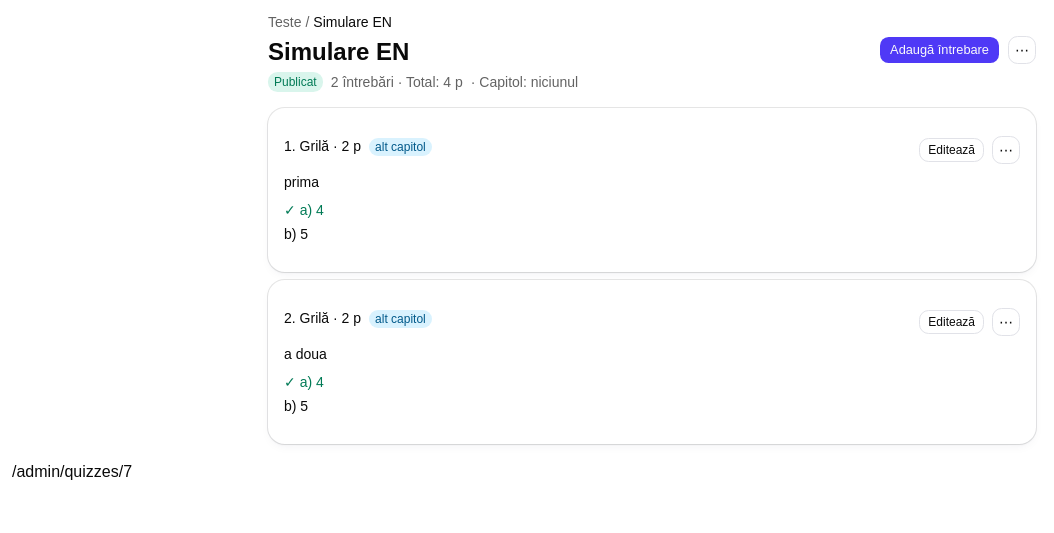
AdminQuizzesPage › ordinea întrebărilor › shows why a move was refused
Click the 3rd button "⋯".
click(1006, 322)  # box [992,308,1020,336]
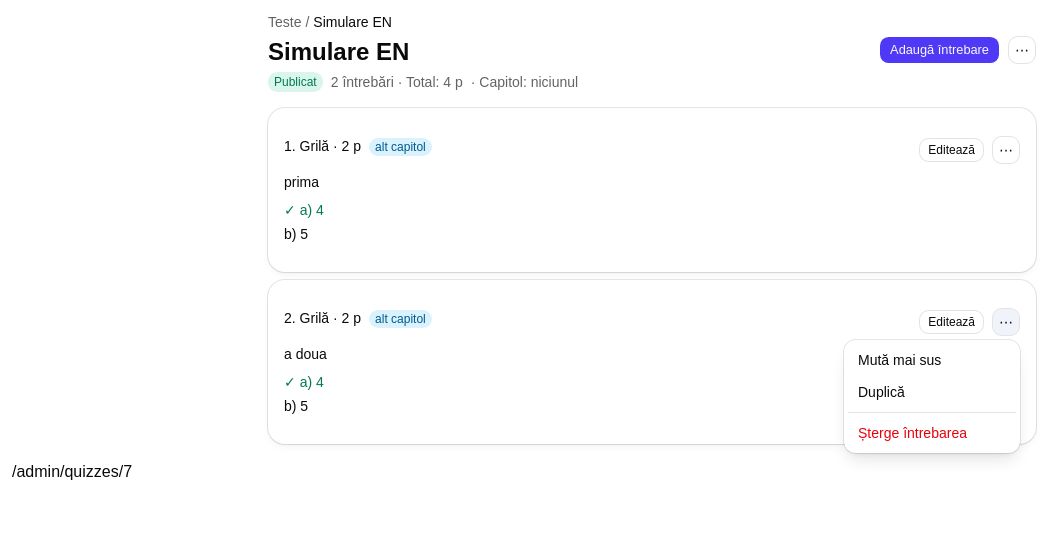
Click the menu item "Mută mai sus".
click(900, 360)  # box [858,352,941,368]
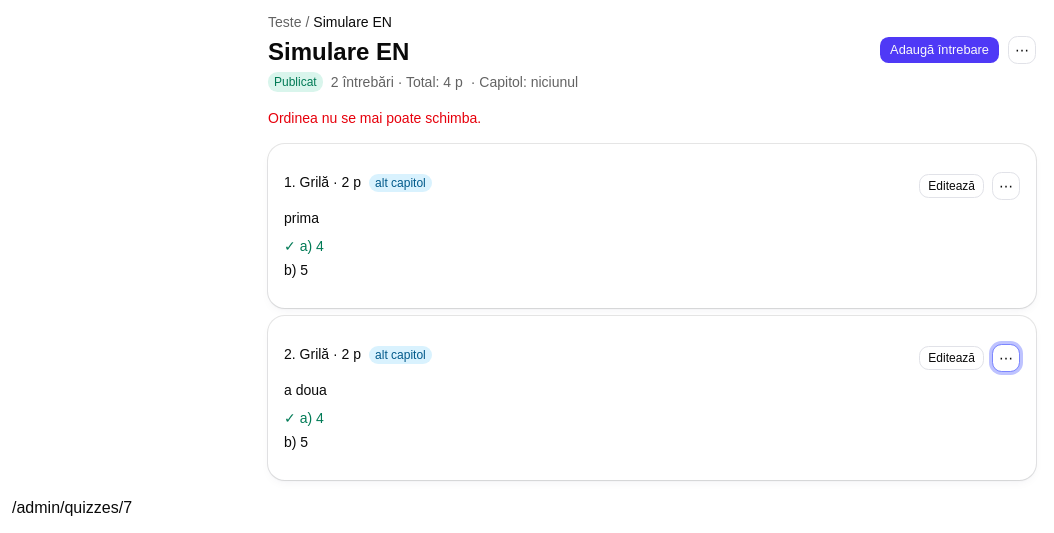
Result: the text "Ordinea nu se mai poate schimba." is shown at [268,110,481,126]
